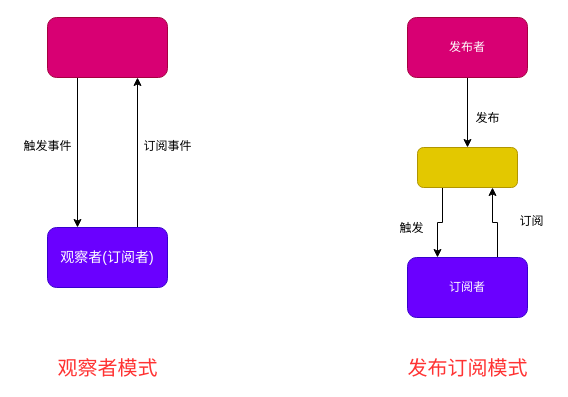
Some shapes in this 568 by 397 pixel diagram are drawn without their labels. Each missing label, with the box of its shape:
事件中心: (416, 146, 518, 188)
目标(发布者): (46, 16, 168, 78)
